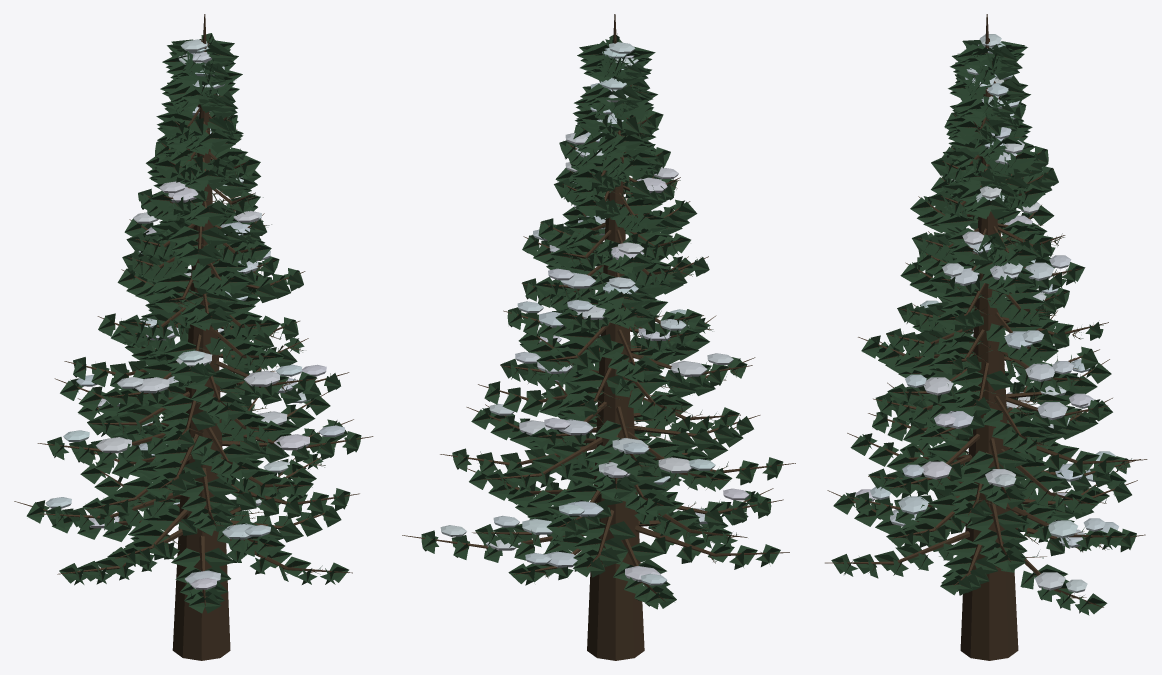
File: pc_spruce_1_lod0.glb
The picture shows the model from 3 angles, left to right: view 1: azimuth 30°, elevation 25°; view 2: azimuth 150°, elevation 25°; view 3: azimuth 270°, elevation 25°; orthographic projection.
Parts seen in each view (by area): view 1: pc_spruce_1_lod0; view 2: pc_spruce_1_lod0; view 3: pc_spruce_1_lod0.
Part boxes in pixels (<box>): pc_spruce_1_lod0: <box>14,14,373,660</box>; pc_spruce_1_lod0: <box>402,14,795,660</box>; pc_spruce_1_lod0: <box>825,14,1147,660</box>.
Size of the model in its own units: 5.48 by 10.5 by 4.84.
